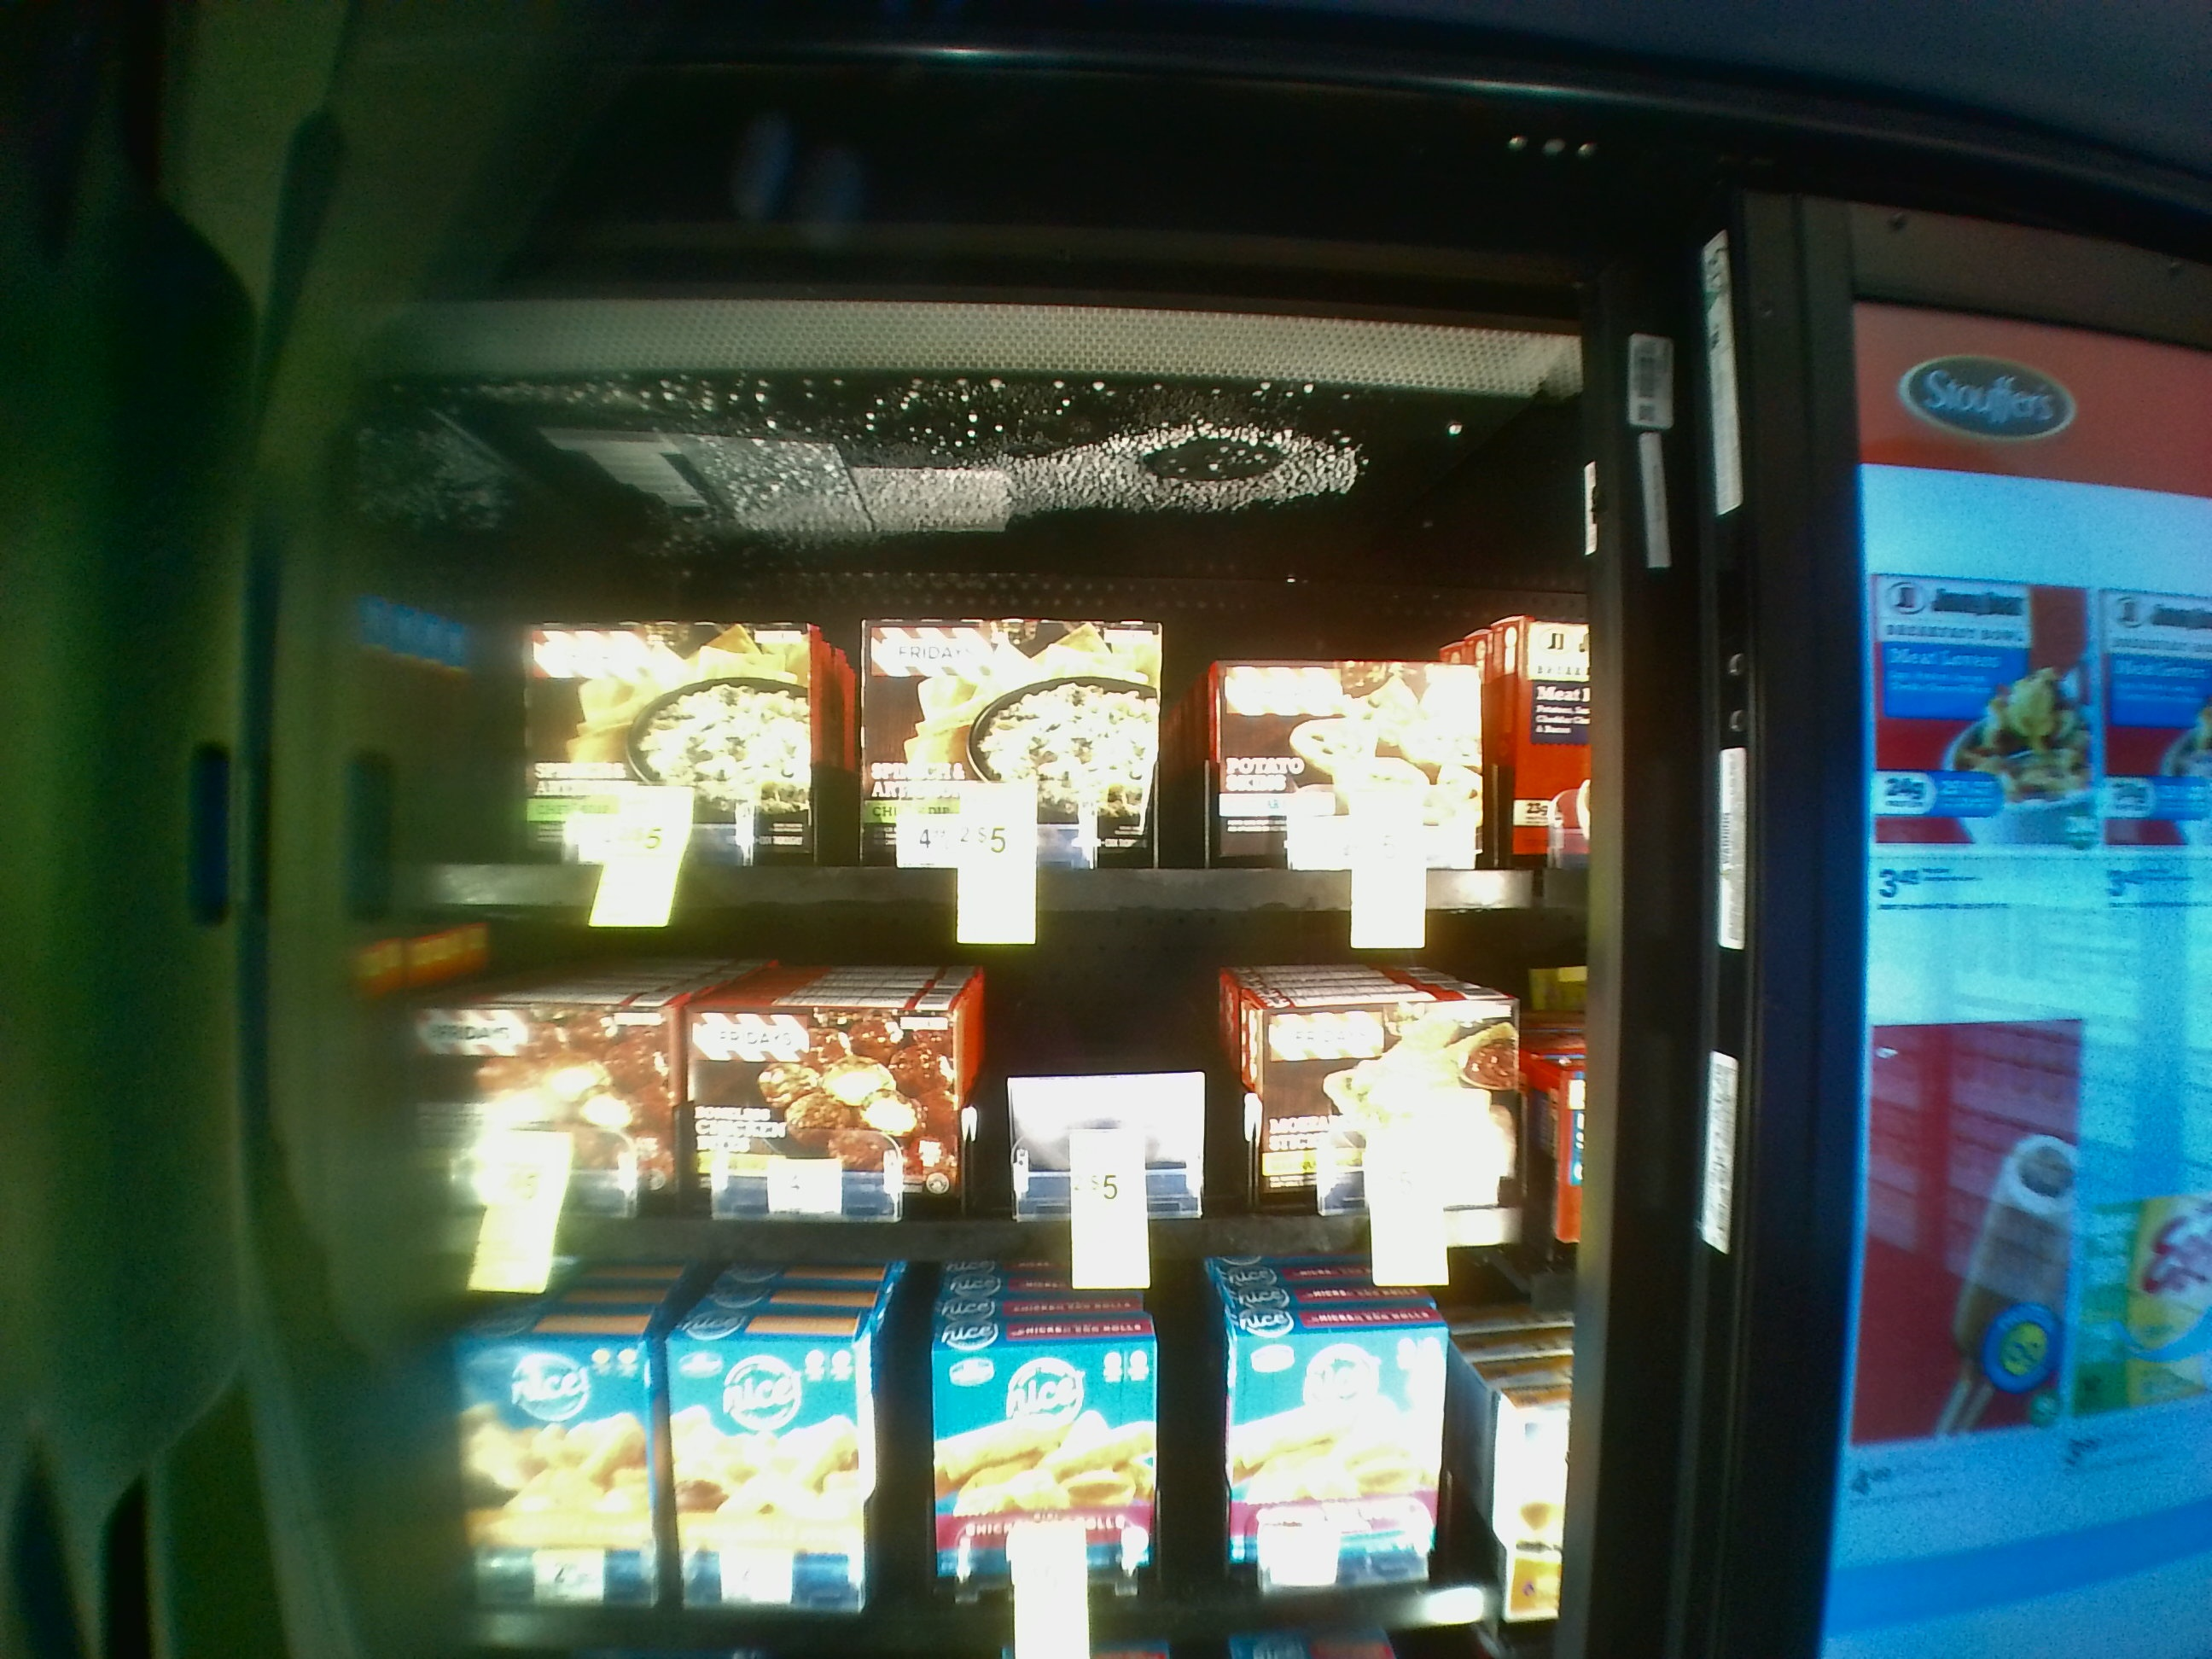shelf: (371, 401, 1578, 932), (371, 950, 1583, 1281)
